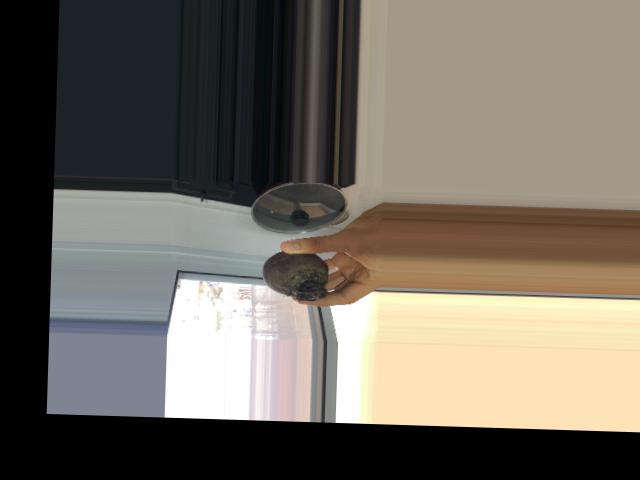beet: (261, 249, 348, 302)
